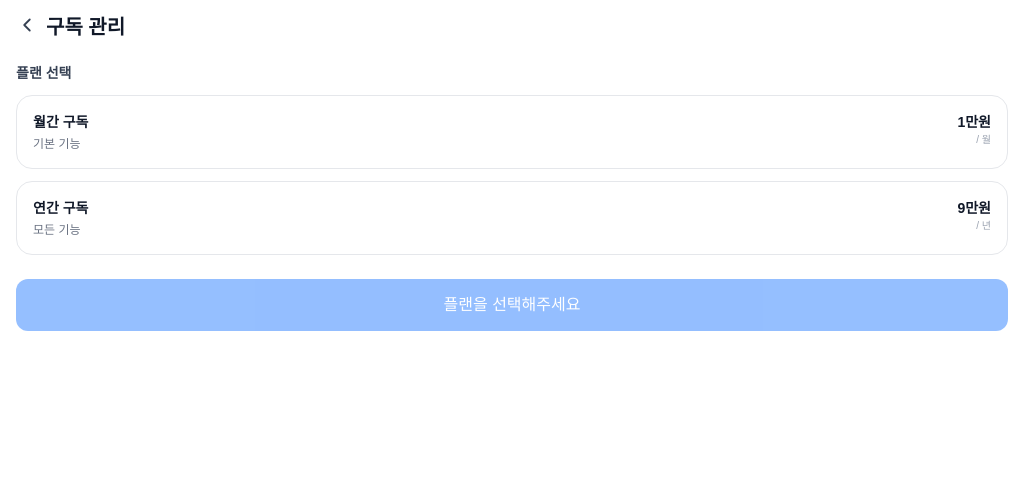
Test: SubscriptionPage › 플랜 선택 후 자동결제 동의 전에는 결제 버튼이 비활성화된다
This screenshot has width=1024, height=500.
Click the text "월간 구독": (61, 122) [33,112,88,132]
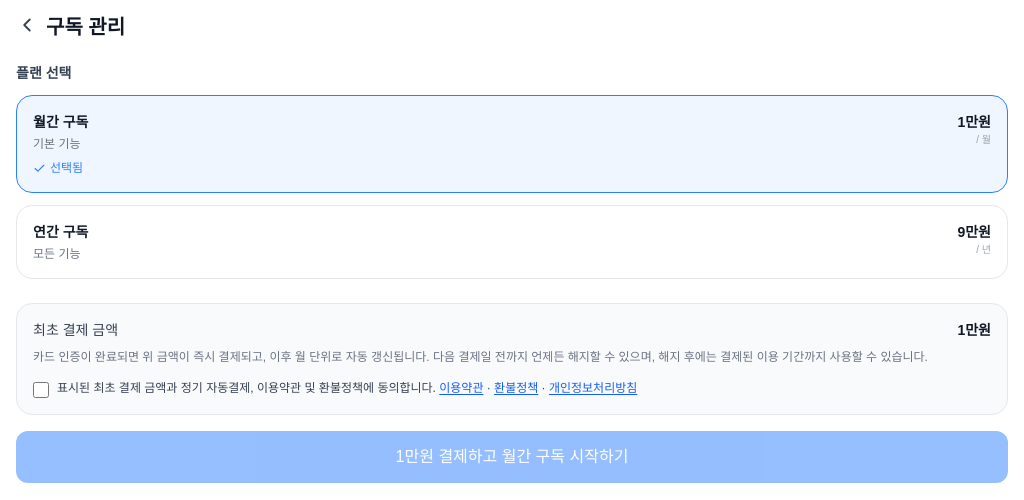
Expected: the button "1만원 결제하고 월간 구독 시작하기" is disabled, [16,430,1008,482]
Now the text "최초 결제 금액" is shown, box [33,320,118,340]
Now the text "카드 인증이 완료되면 위 금액이 즉시 결제" is shown, box [33,350,295,364]
